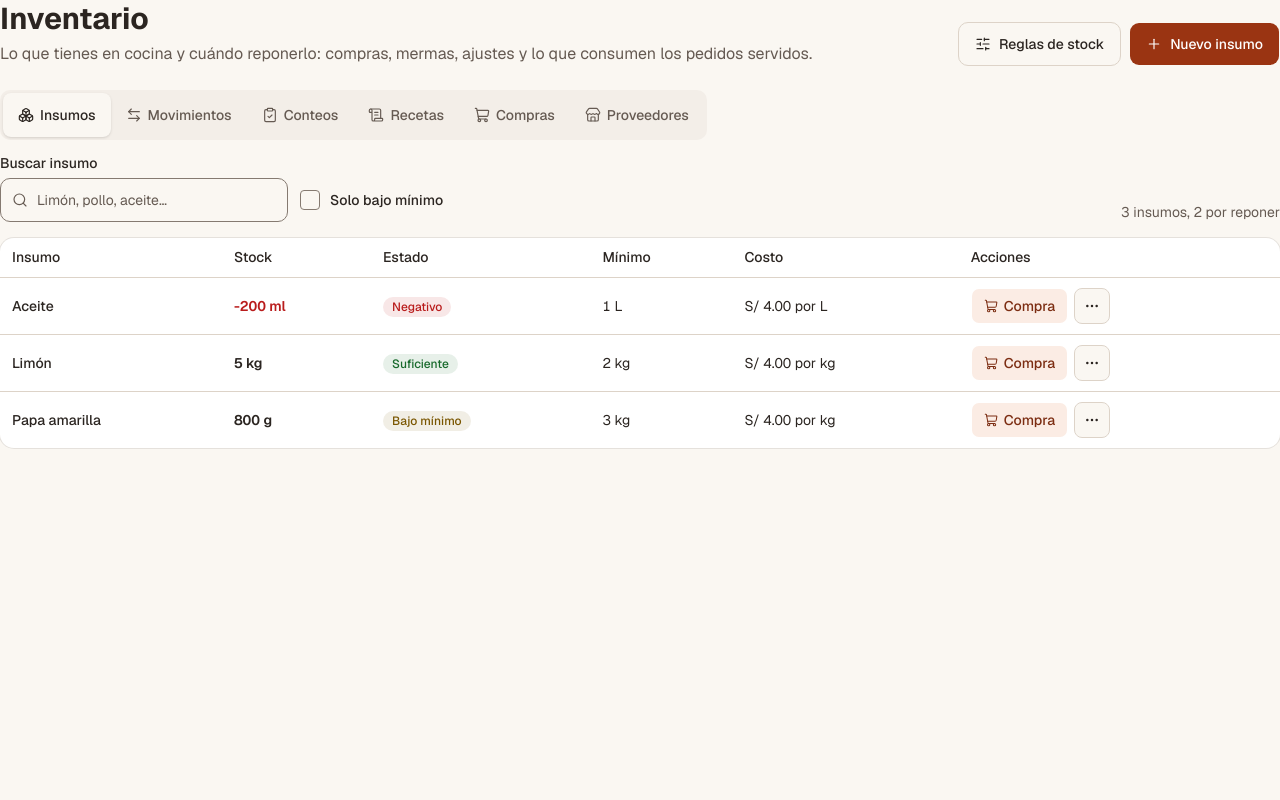
InventoryView: lo que hay que reponer › «Solo bajo mínimo» deja los insumos por reponer y la compra a un toque
Click the checkbox named "Solo bajo mínimo".
click(310, 200)  # box [300,190,320,210]
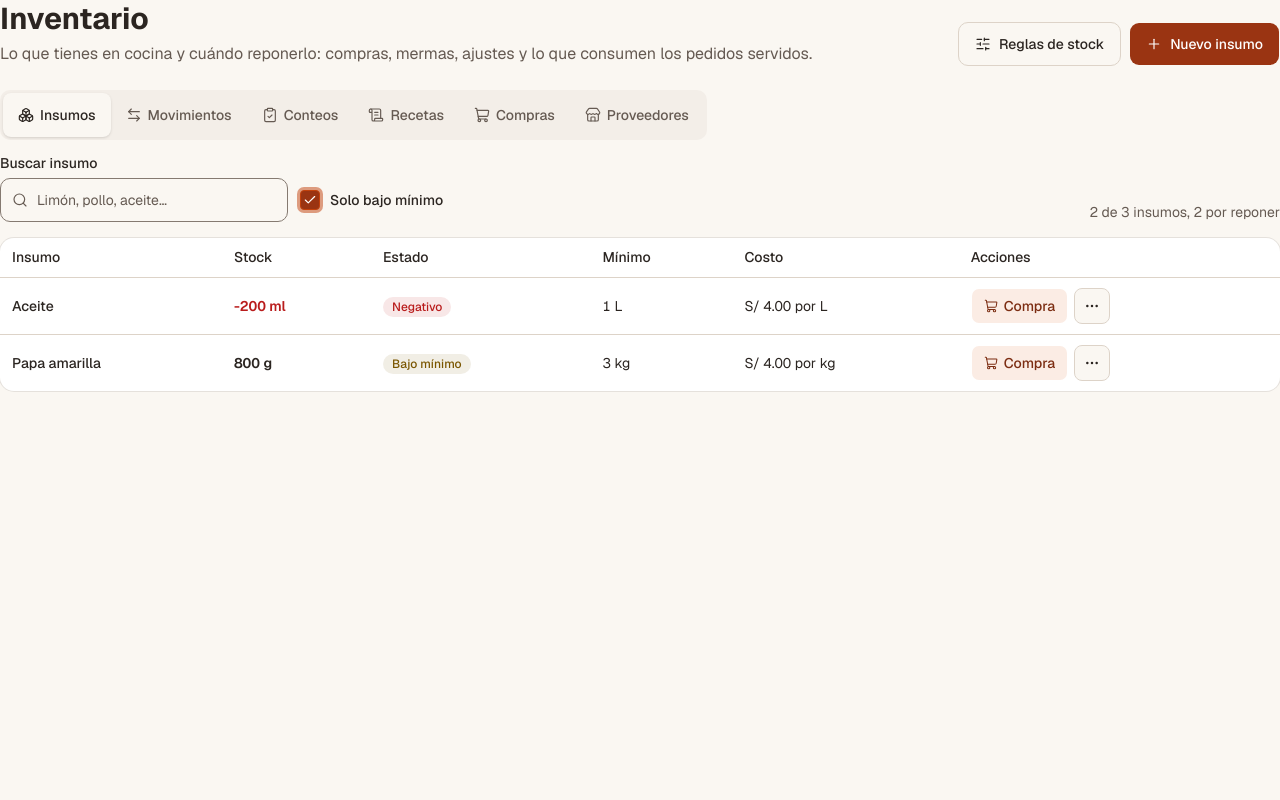
Expected: the text "Bajo mínimo" is shown, [383,354,471,374]
Expected: the text "Negativo" is shown, [383,296,451,316]
Click the button with aria-label "Compra de Papa amarilla".
click(1019, 363)  # box [971,345,1068,381]
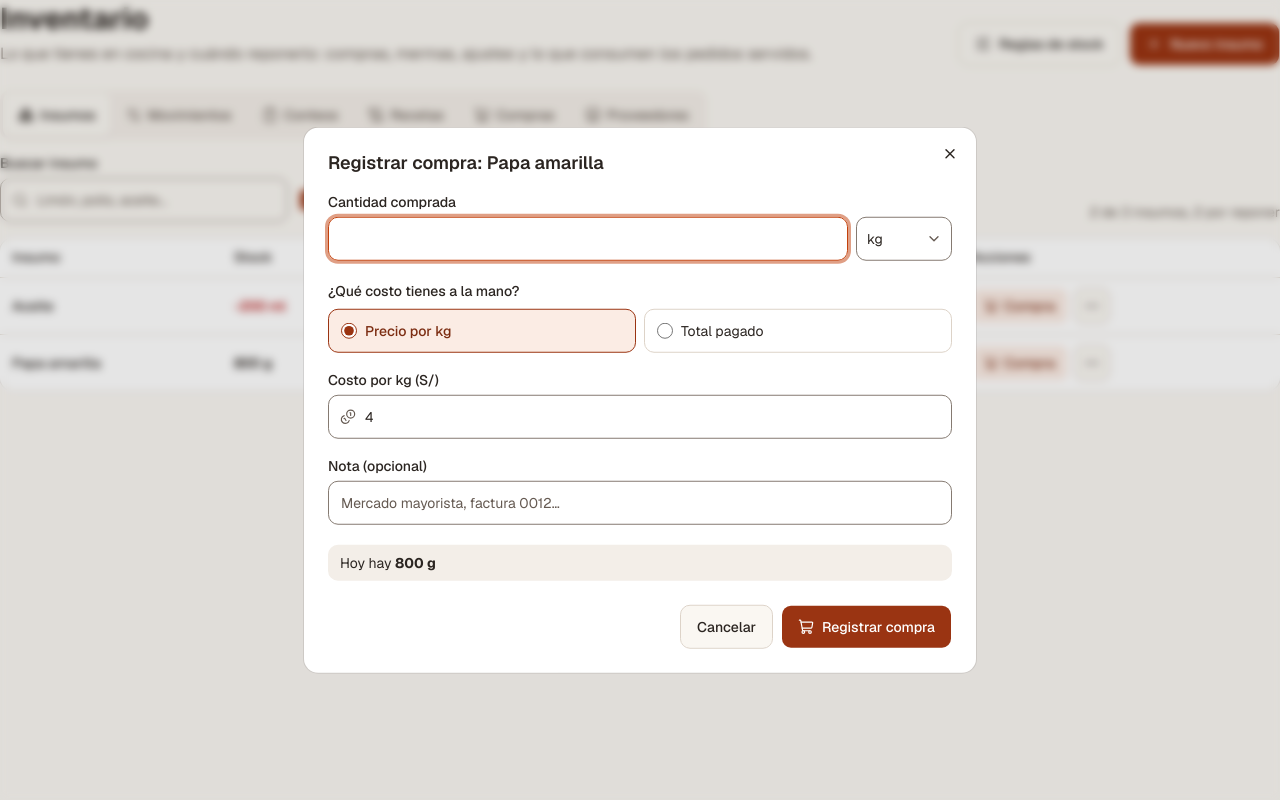
Result: the dialog "Registrar compra: Papa amarilla" is shown at [304,128,976,672]
